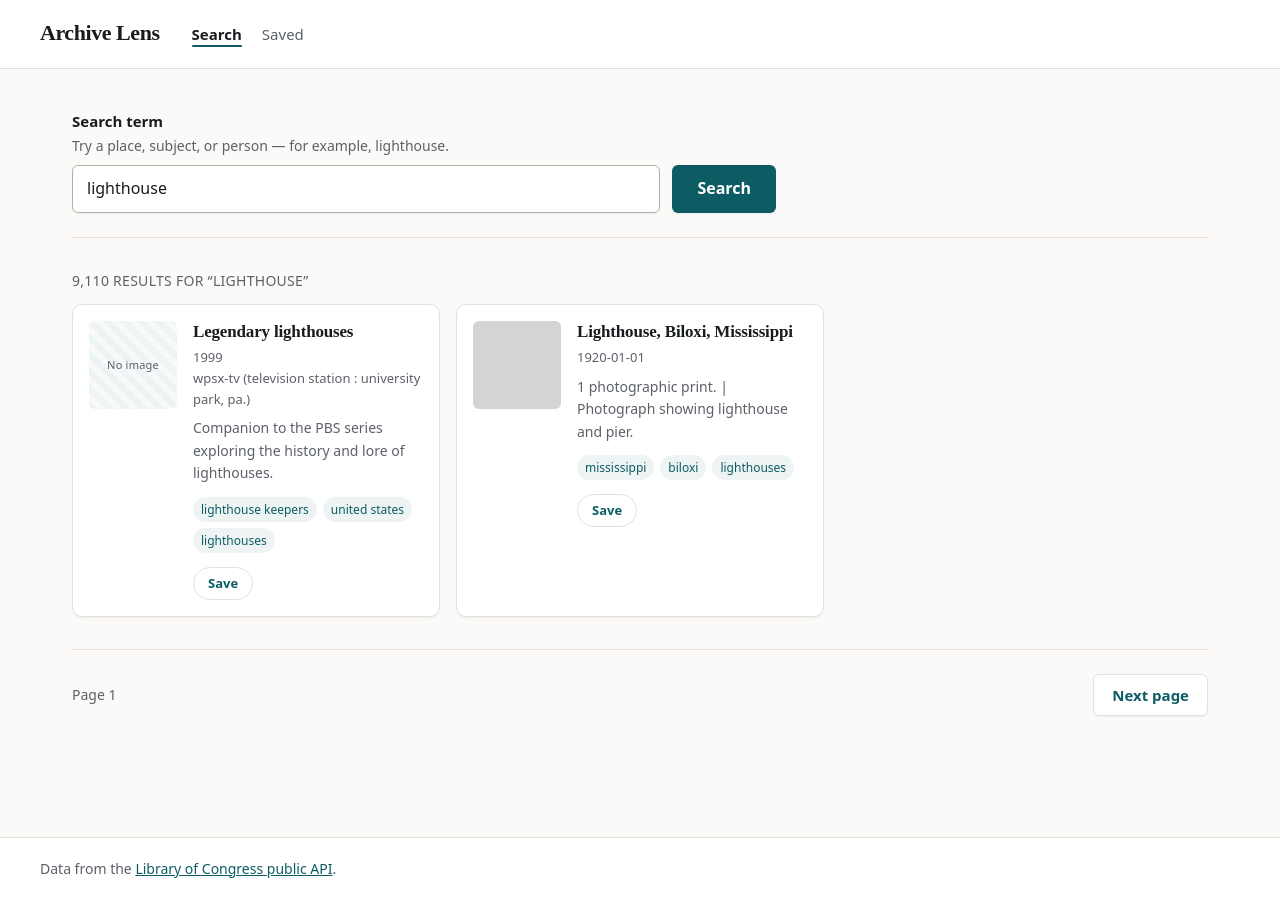
Test: Saving items › unsaves from the saved page and empties the list
Click the button with class "card__save" below "lighthouse keepers" at (223, 584), box 193,567 -> 253,600
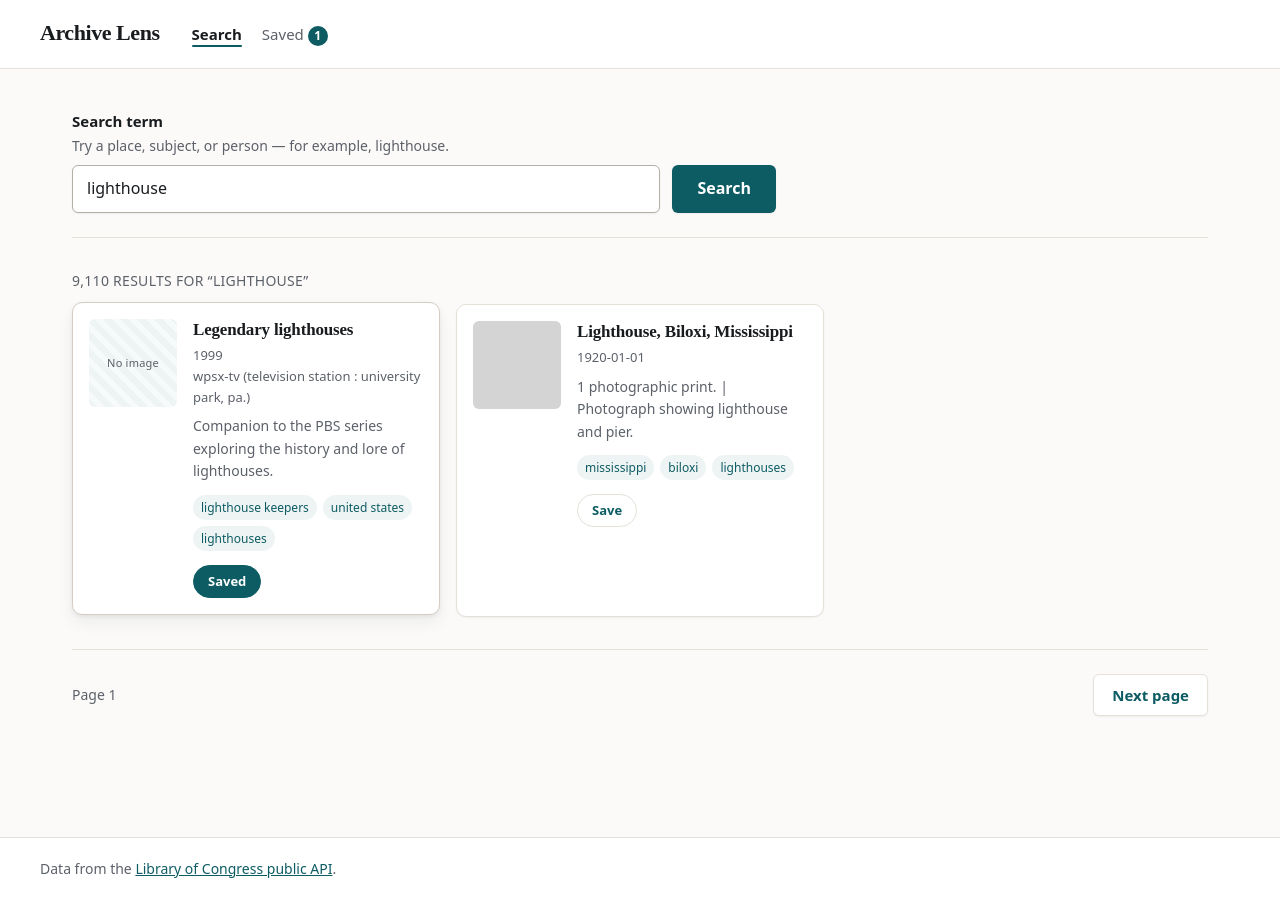
Open "/saved"
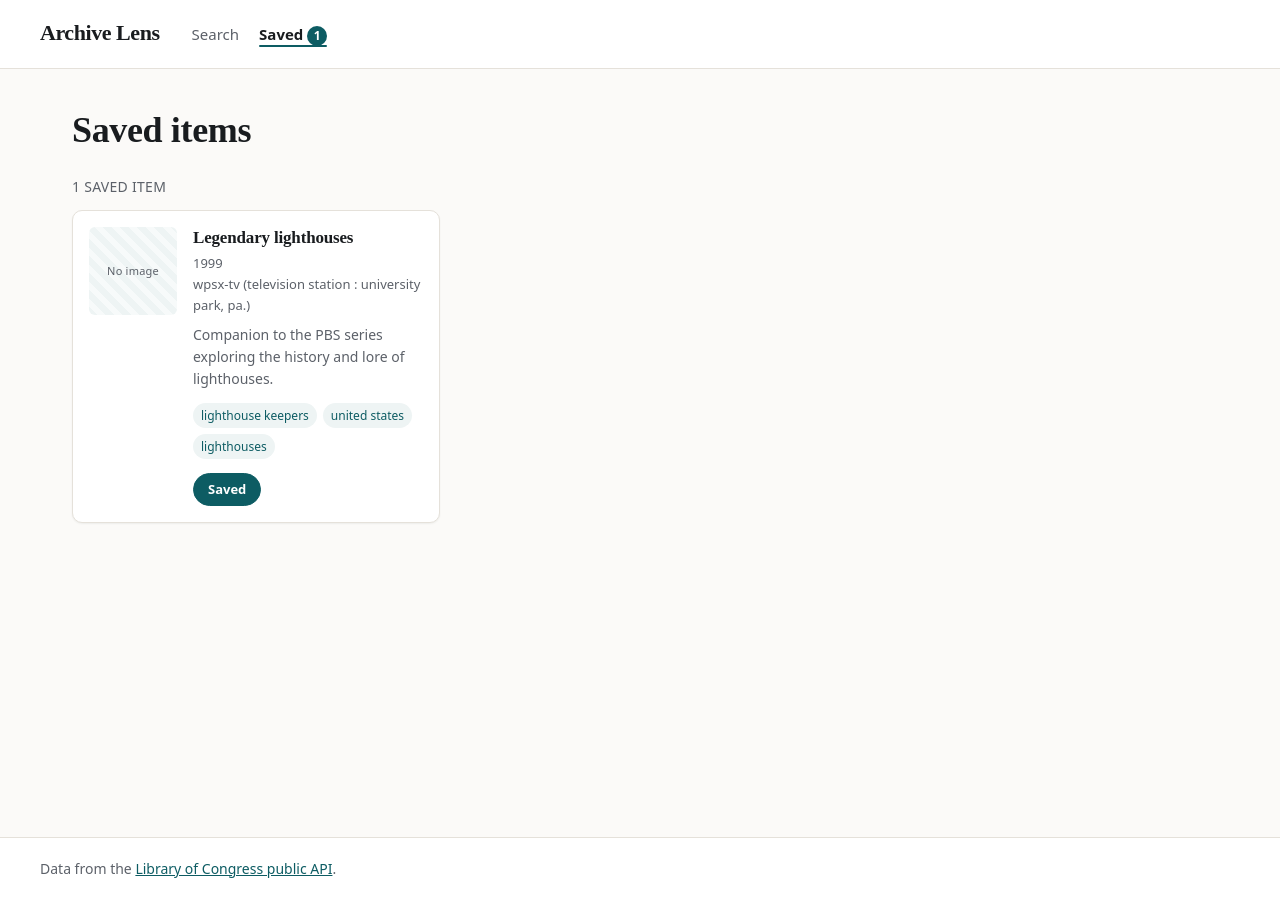
Click the button with class "card__save" at (227, 490), box 193,473 -> 261,506
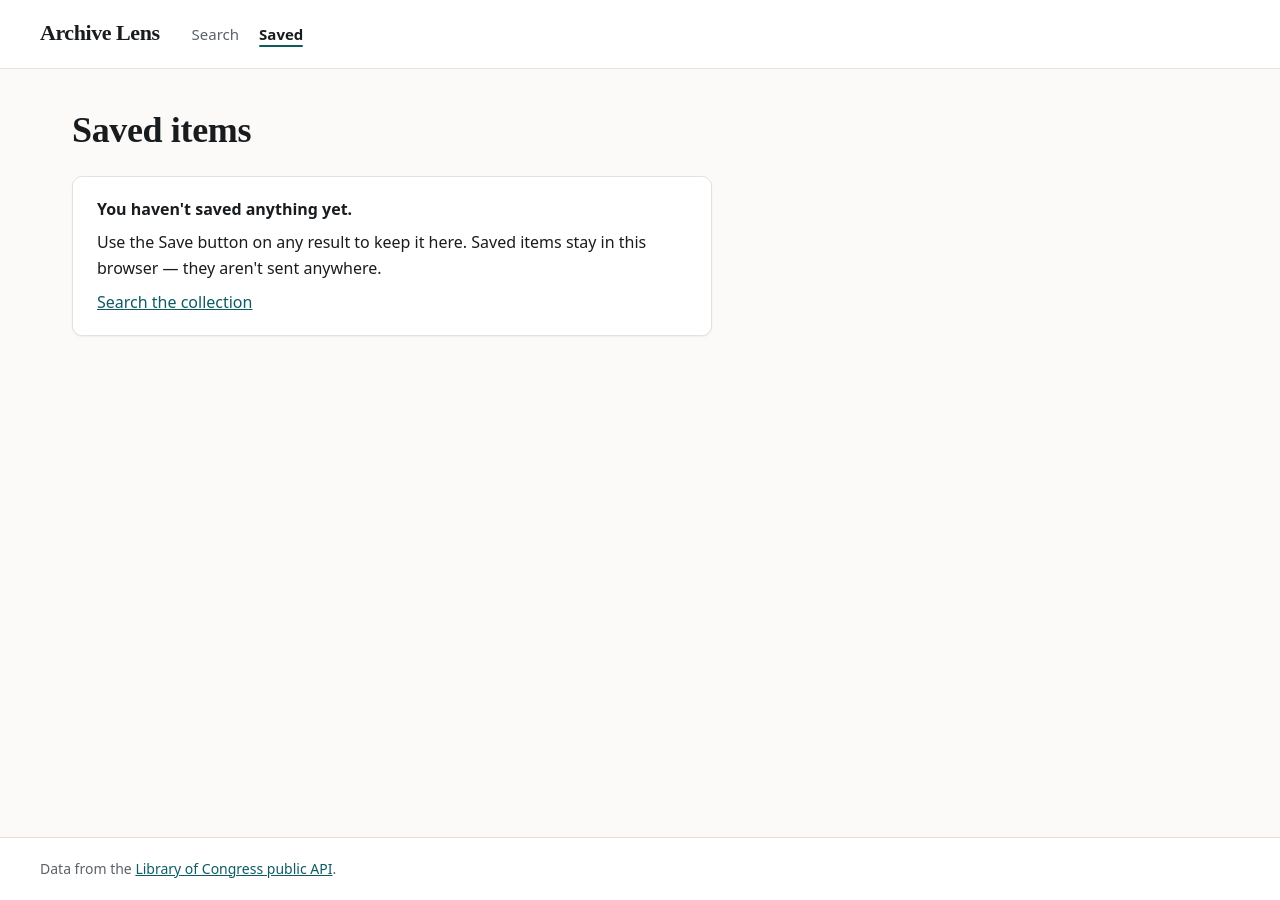
Check: the text "haven't saved anything yet" is shown, box 97,198 -> 352,220
Check: the text with class "badge" is gone
